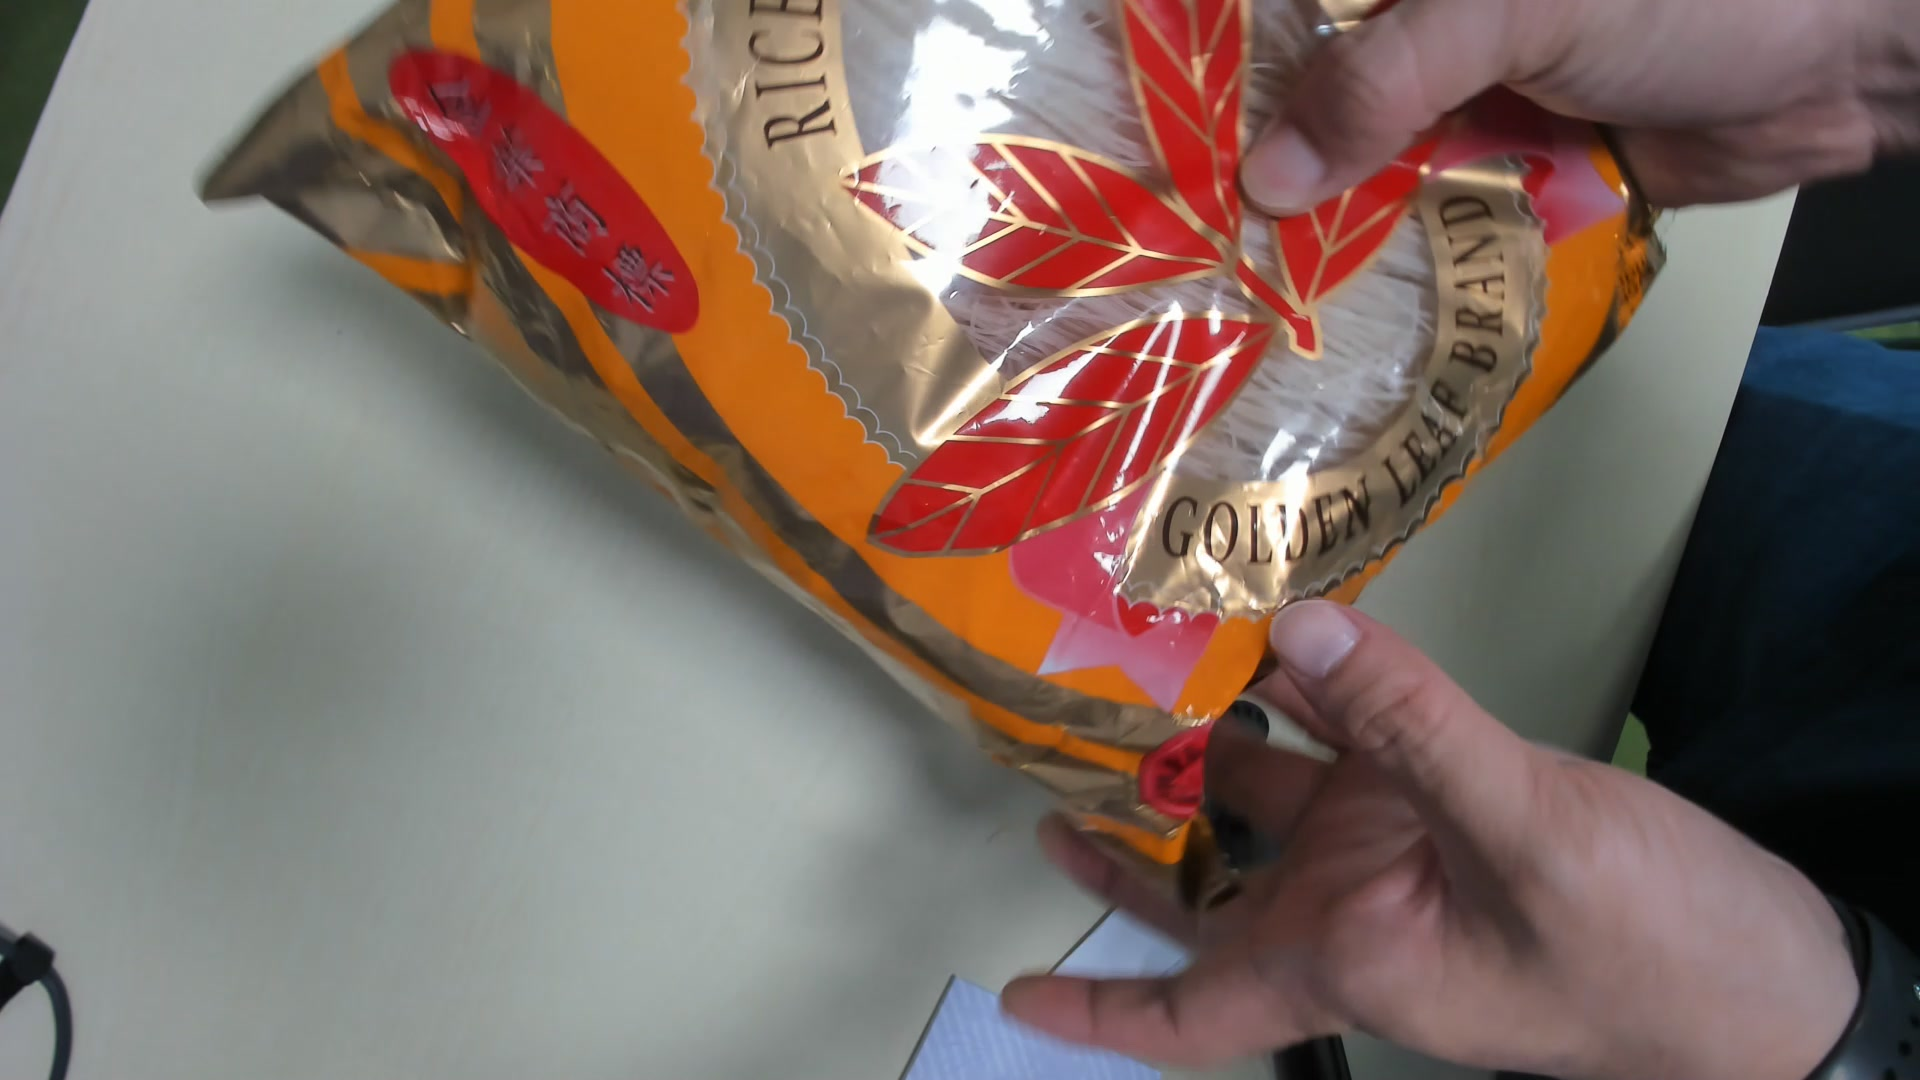OtherNoodles_400-499g_Halal_NonHealthy: (210, 7, 1654, 913)
